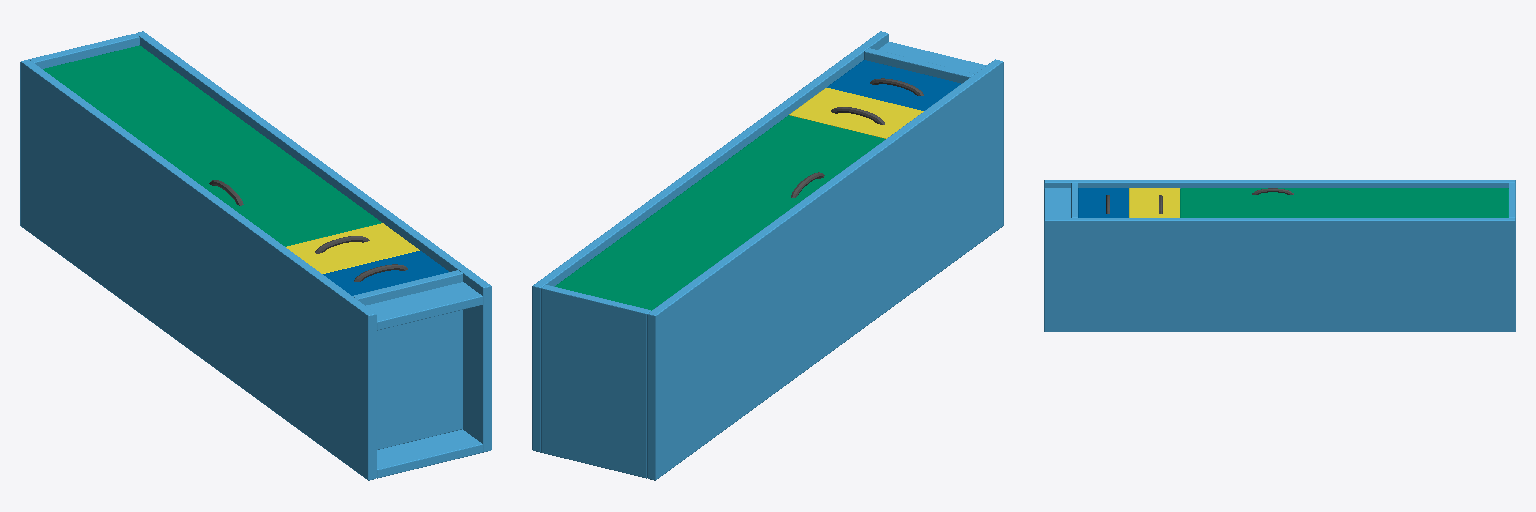
The robot description file, URDF, robot "267":
<robot name="267">


	<link name="0:virtual">
		<visual>
			<origin xyz="0.0 0.0 0.0" rpy="0 0 0"/>
			<geometry>
				<cylinder length="0" radius="0"/>
			</geometry>
		</visual>
	</link>


	<link name="1:static">
		<visual>
			<origin xyz="-0.0 -0.0 -0.0" rpy="0 0 0"/>
			<geometry>
				<mesh filename="../raw_data/267/part_meshes/1.dae" />
			</geometry>
		</visual>
	</link>


	<link name="2:door 1">
		<visual>
			<origin xyz="-0.18516500294208527 -1.3378064632415771 -0.23219049721956253" rpy="0 0 0"/>
			<geometry>
				<mesh filename="../raw_data/267/part_meshes/2.dae" />
			</geometry>
		</visual>
	</link>


	<link name="3:drawer 1">
		<visual>
			<origin xyz="4.991888999938965e-07 -0.49102751910686493 -0.0011999979615211487" rpy="0 0 0"/>
			<geometry>
				<mesh filename="../raw_data/267/part_meshes/3.dae" />
			</geometry>
		</visual>
	</link>


	<link name="4:drawer 2">
		<visual>
			<origin xyz="4.991888999938965e-07 -0.2640320062637329 -0.0011999979615211487" rpy="0 0 0"/>
			<geometry>
				<mesh filename="../raw_data/267/part_meshes/4.dae" />
			</geometry>
		</visual>
	</link>


	<joint name="0:virtual::1:static" type="fixed">
		<parent link="0:virtual"/>
		<child link="1:static"/>
		<origin xyz="0.0 0.0 0.0" rpy="0 0 0"/>
	</joint>


	<joint name="0:virtual::2:door 1_rotation" type="revolute">
		<parent link="0:virtual"/>
		<child link="2:door 1"/>
		<origin xyz="0.18516500294208527 1.3378064632415771 0.23219049721956253" rpy="0 0 0"/>
		<limit lower="0.0" upper="1.6807520696705394" effort="10" velocity="3"/>
		<axis xyz="0.0 1.0 0.0"/>
	</joint>


	<joint name="0:virtual::3:drawer 1_translation" type="prismatic">
		<parent link="0:virtual"/>
		<child link="3:drawer 1"/>
		<origin xyz="-4.991888999938965e-07 0.49102751910686493 0.0011999979615211487" rpy="0 0 0"/>
		<limit lower="-1.78813934e-08" upper="0.368999982118607" effort="10" velocity="3"/>
		<axis xyz="0.0 0.0 1.0"/>
	</joint>


	<joint name="0:virtual::4:drawer 2_translation" type="prismatic">
		<parent link="0:virtual"/>
		<child link="4:drawer 2"/>
		<origin xyz="-4.991888999938965e-07 0.2640320062637329 0.0011999979615211487" rpy="0 0 0"/>
		<limit lower="0.0" upper="0.368999982118607" effort="10" velocity="3"/>
		<axis xyz="0.0 0.0 1.0"/>
	</joint>


</robot>

--- What the picture shows (computed from the rendered views, not written in the file) ---
3 views of the same robot in one strip: view 1: azimuth 30°, elevation 25°; view 2: azimuth 150°, elevation 25°; view 3: azimuth 270°, elevation 25° (orthographic).
Model 267 with 5 links and 4 joints (1 revolute, 2 prismatic, 1 fixed), rooted at 0:virtual, posed all joints at 0.
Links seen in each view (by area): view 1: 1:static, 2:door 1, 3:drawer 1, 4:drawer 2; view 2: 1:static, 2:door 1, 3:drawer 1, 4:drawer 2; view 3: 1:static, 2:door 1, 3:drawer 1, 4:drawer 2.
Link boxes in pixels (x1=…): 1:static: x1=20, y1=31, x2=491, y2=480; 2:door 1: x1=43, y1=45, x2=381, y2=246; 3:drawer 1: x1=286, y1=223, x2=419, y2=273; 4:drawer 2: x1=323, y1=251, x2=448, y2=295; 1:static: x1=532, y1=31, x2=1003, y2=480; 2:door 1: x1=555, y1=115, x2=885, y2=310; 3:drawer 1: x1=789, y1=88, x2=923, y2=138; 4:drawer 2: x1=827, y1=60, x2=960, y2=110; 1:static: x1=1044, y1=180, x2=1515, y2=331; 2:door 1: x1=1180, y1=188, x2=1508, y2=217; 3:drawer 1: x1=1129, y1=188, x2=1179, y2=217; 4:drawer 2: x1=1078, y1=188, x2=1128, y2=217.
Size in the robot's own frame: 0.43 by 2.1 by 0.5507 metres.
Meshes: 4 distinct files referenced, 4 mesh visuals loaded (4 Collada DAE).